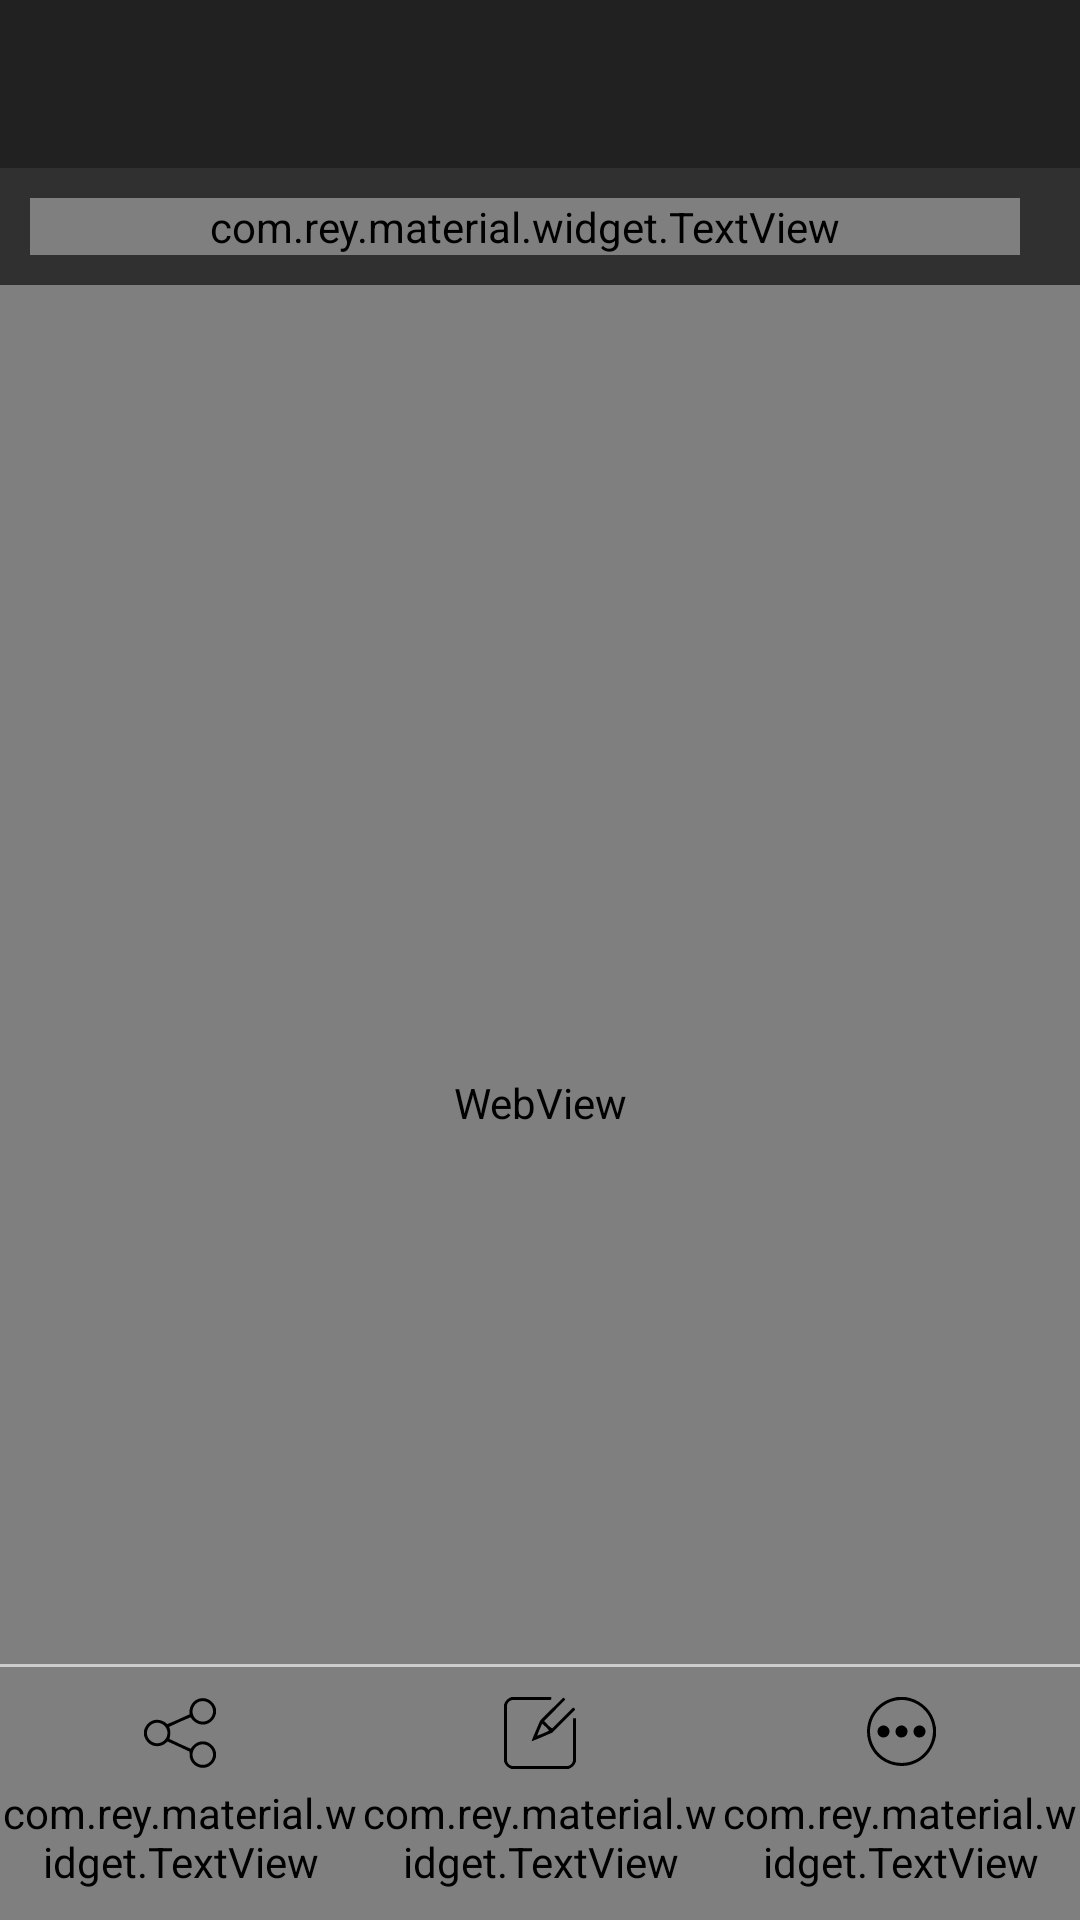

Point at icon controls on the screen. Image size 1080px×1920px, points as (x=x, y=y).
edit: (x=540, y=1733)
more: (x=901, y=1731)
share: (x=180, y=1733)
